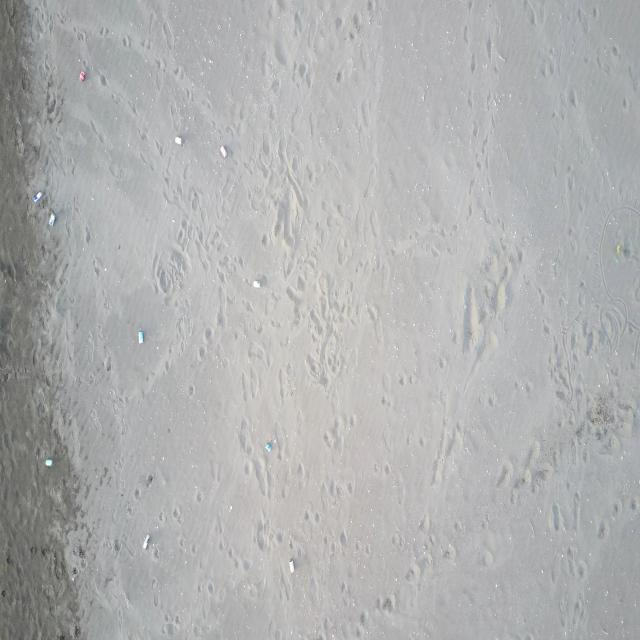Garbage: (141, 533, 150, 548), (32, 191, 43, 203), (48, 212, 55, 226), (220, 144, 227, 158), (264, 440, 272, 452), (615, 243, 622, 256), (138, 329, 143, 343), (44, 457, 51, 466), (79, 70, 85, 80), (252, 280, 260, 287), (288, 559, 292, 572), (174, 136, 180, 144)
